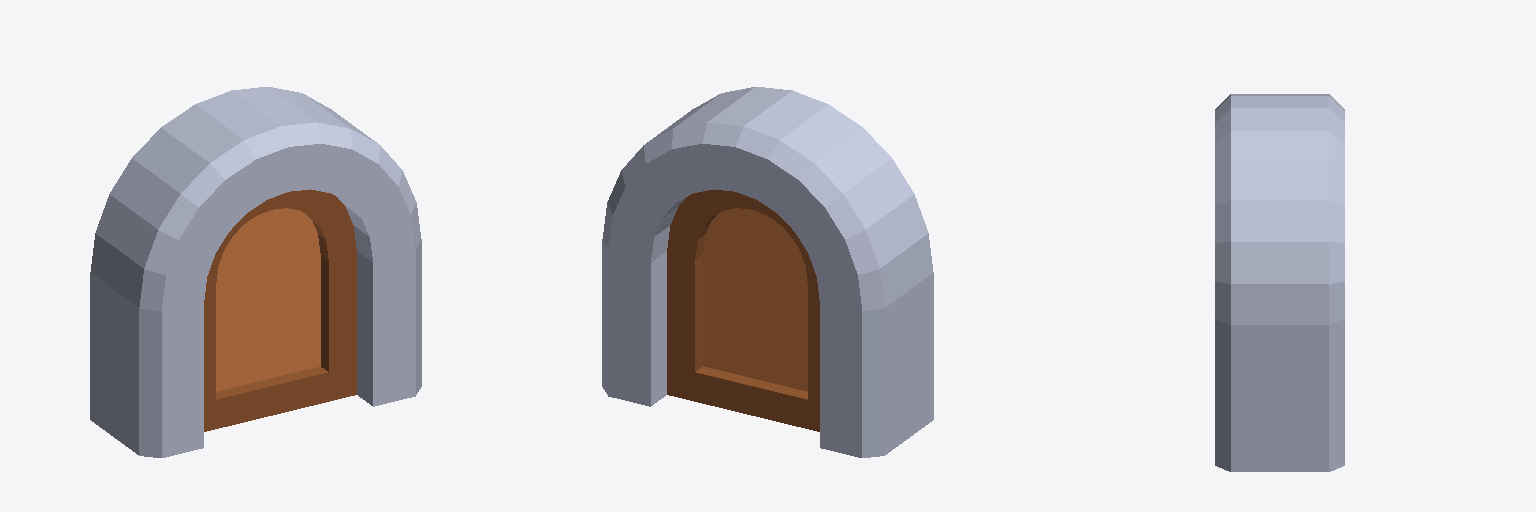
File: doorLargeClosed.obj
3 views of the same model, side by side, from view 1: azimuth 30°, elevation 25°; view 2: azimuth 150°, elevation 25°; view 3: azimuth 270°, elevation 25° (orthographic).
Parts seen in each view (by area): view 1: doorLargeClosed; view 2: doorLargeClosed; view 3: doorLargeClosed.
Part boxes in pixels (x1,y1,x2,y2): doorLargeClosed: (90, 87, 421, 457); doorLargeClosed: (602, 87, 933, 457); doorLargeClosed: (1215, 94, 1344, 471).
Size of the model in its own units: 1 by 1 by 0.4.